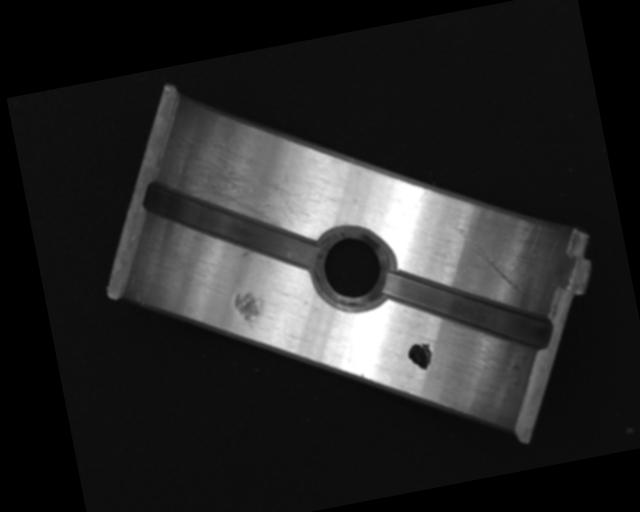blot: (405, 340, 435, 373)
bruise: (231, 287, 265, 331)
gap: (141, 153, 321, 299), (381, 246, 554, 377)
hole: (309, 218, 397, 317)
nick: (453, 213, 520, 303)
scratch: (166, 120, 310, 246)
